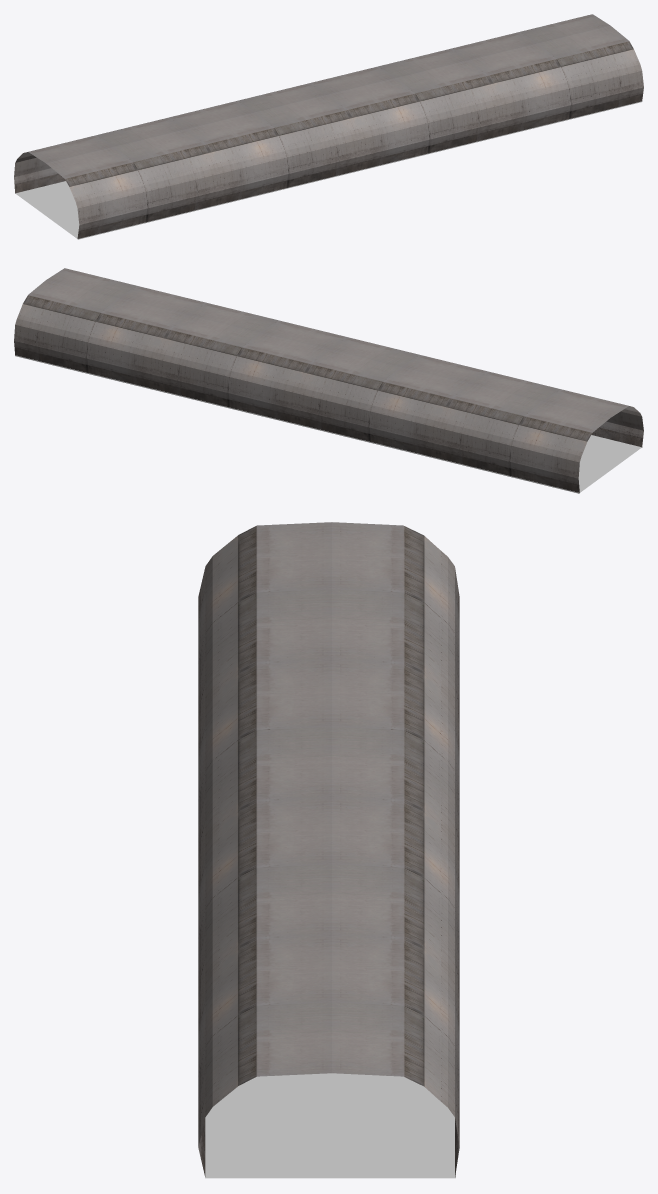
The model's file is underground_line.fbx.
3 renders of one model, top to bottom at view 1: azimuth 30°, elevation 25°; view 2: azimuth 150°, elevation 25°; view 3: azimuth 270°, elevation 25°, orthographic. The views are drawn at different scales.
Parts seen in each view (by area): view 1: roads.021; view 2: roads.021; view 3: roads.021.
Boxes of the visible parts, x1,y1,x2,y2 form: roads.021: [14, 14, 643, 239]; roads.021: [14, 268, 643, 493]; roads.021: [198, 522, 459, 1178].
Size of the model in its own units: 21845 by 1968 by 4375.
